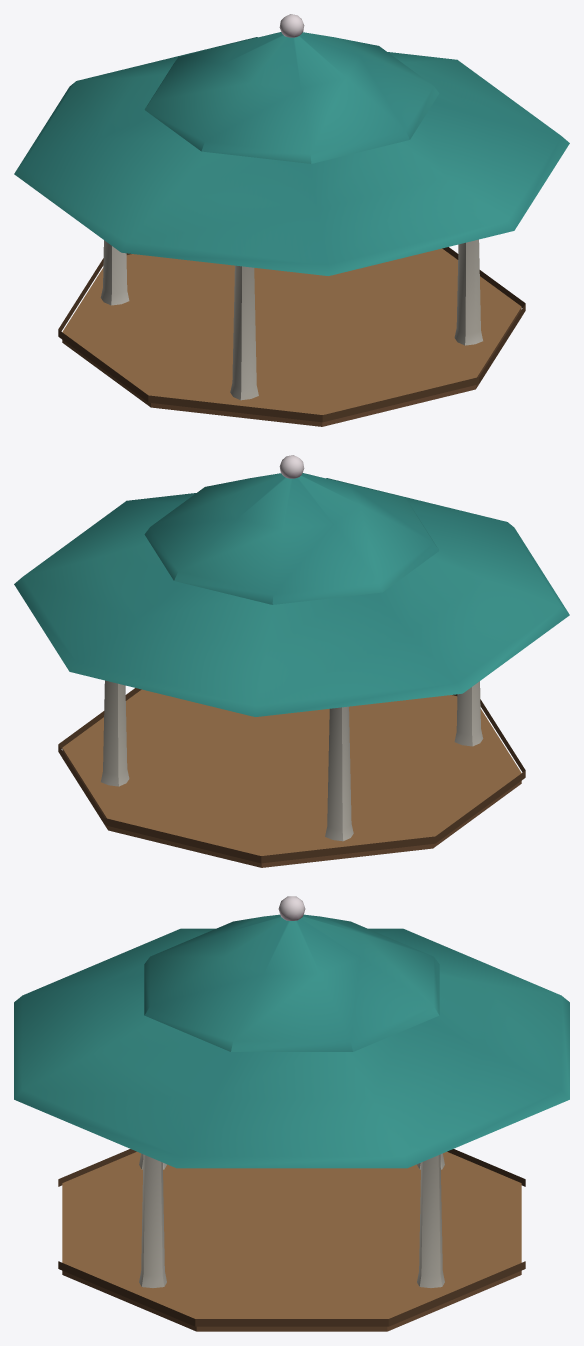
Rendered from gazebo.glb.
3 renders of one model, top to bottom at view 1: azimuth 30°, elevation 25°; view 2: azimuth 150°, elevation 25°; view 3: azimuth 270°, elevation 25°, orthographic. The views are drawn at different scales.
Visible parts, largest first — view 1: gazebo; view 2: gazebo; view 3: gazebo.
Part boxes in pixels (x1,y1,x2,y2): gazebo: [14, 14, 569, 426]; gazebo: [14, 455, 569, 867]; gazebo: [14, 896, 569, 1331].
Bounding box in the file's own units: 9.05 × 6.07 × 9.05.
